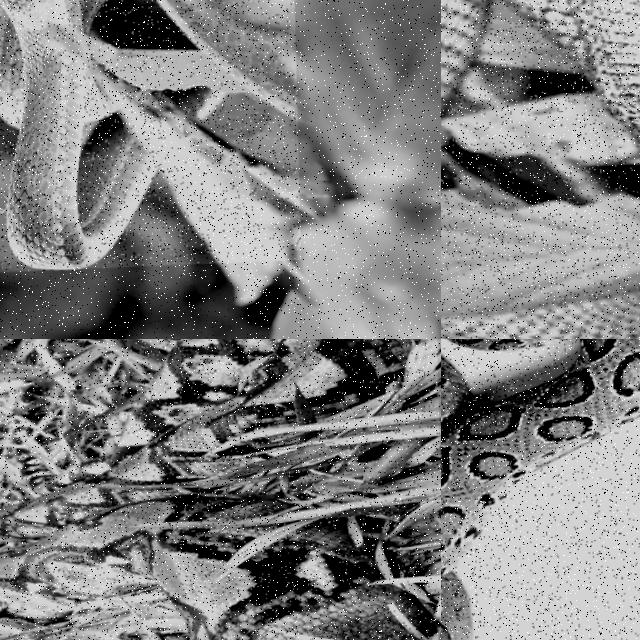Chrysopelea ornata: (441, 292, 639, 338)
Daboia siamensis: (441, 339, 639, 639)
Malayopython reticulatus: (0, 339, 424, 639)
Trimeresurus macrops: (0, 0, 158, 269)
